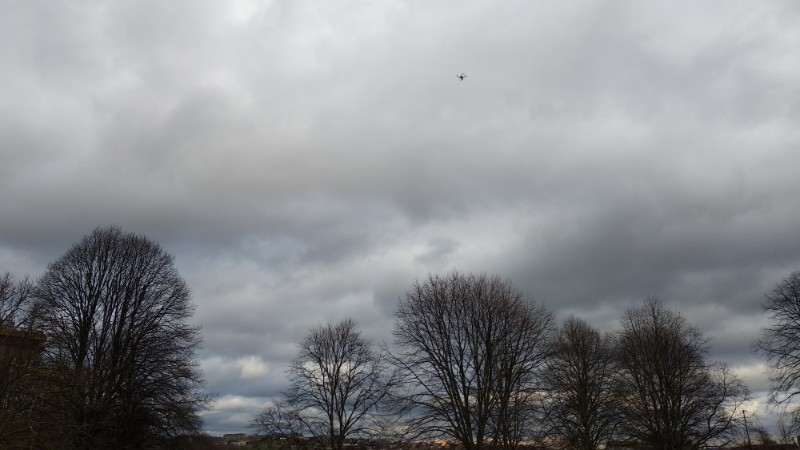drone: (456, 73, 465, 81)
